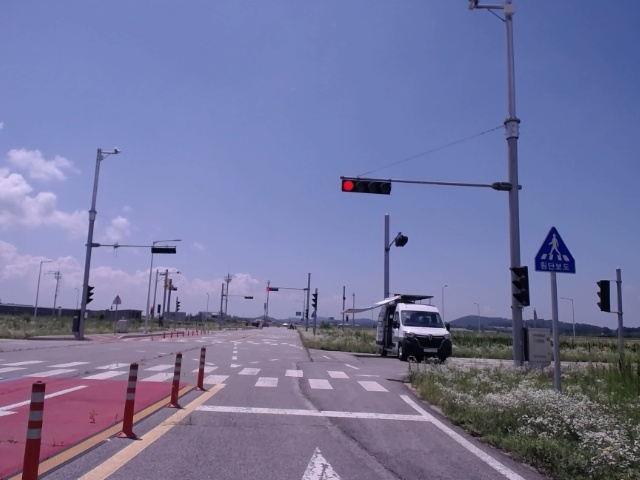red_4: (342, 180, 390, 195)
